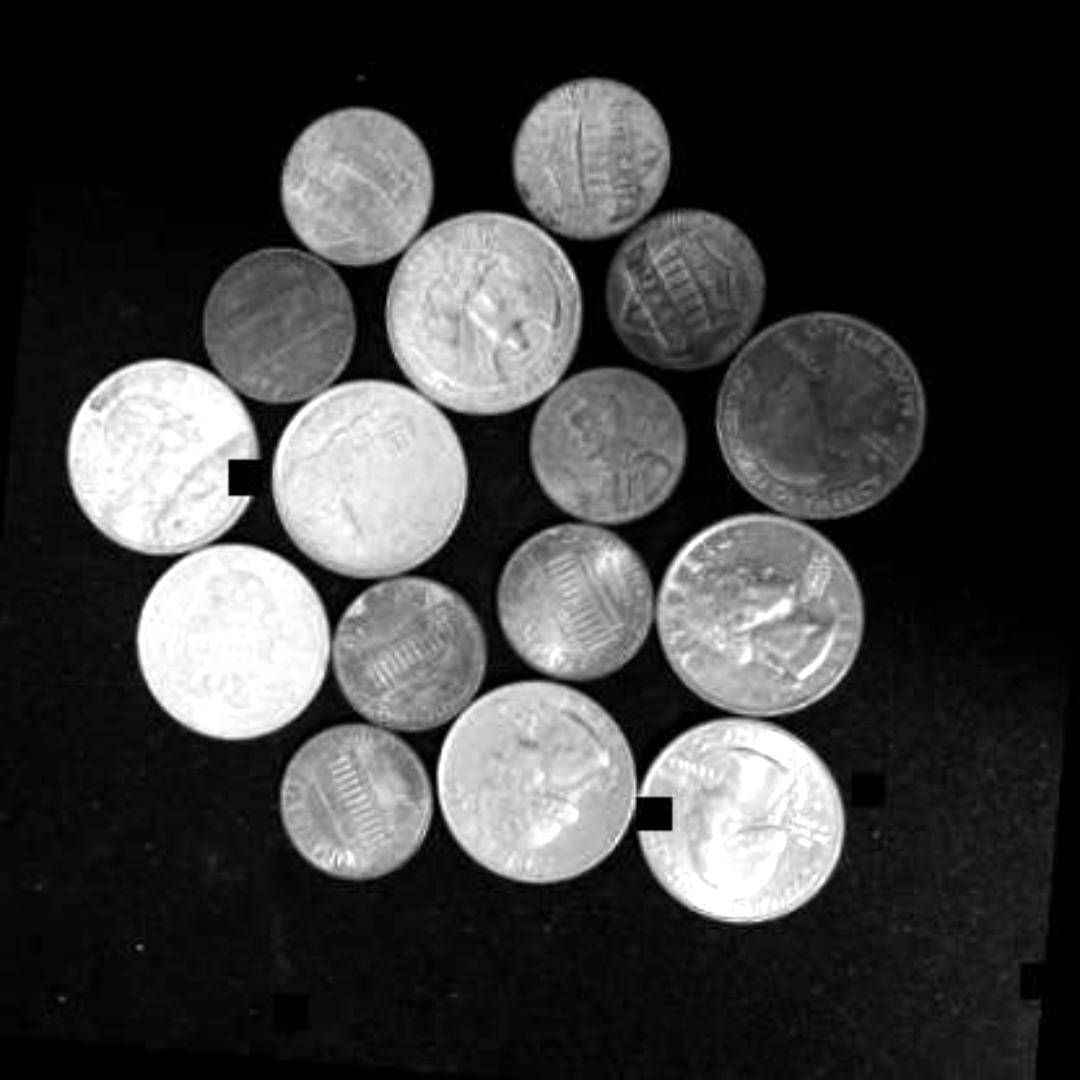Penny: (520, 357, 710, 536), (480, 512, 670, 688), (499, 74, 683, 255), (189, 233, 370, 417), (264, 716, 448, 896), (314, 568, 498, 740), (596, 197, 770, 378), (269, 102, 445, 274)
Quarter: (623, 701, 859, 937), (704, 297, 940, 533), (638, 502, 879, 727), (419, 664, 644, 894), (120, 530, 344, 755), (254, 372, 486, 587), (372, 205, 594, 425), (44, 348, 268, 564)
